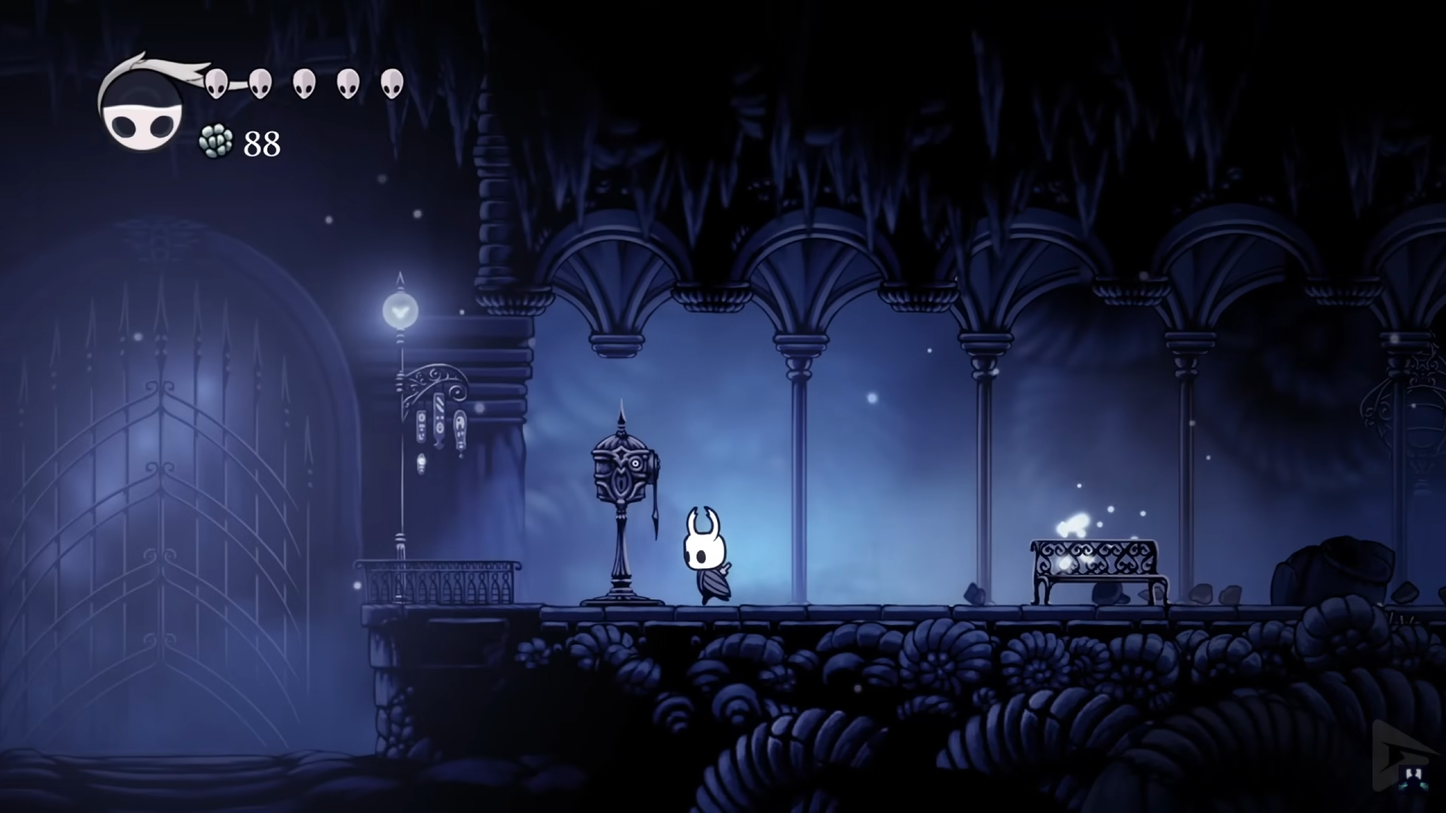HK: (679, 504, 737, 607)
